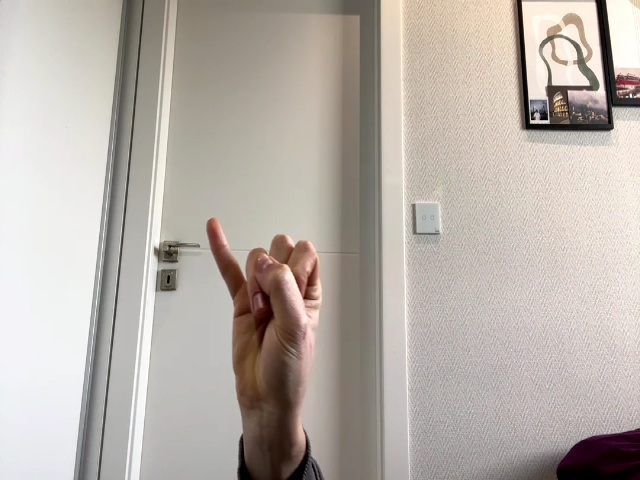I: (206, 218, 323, 401)
